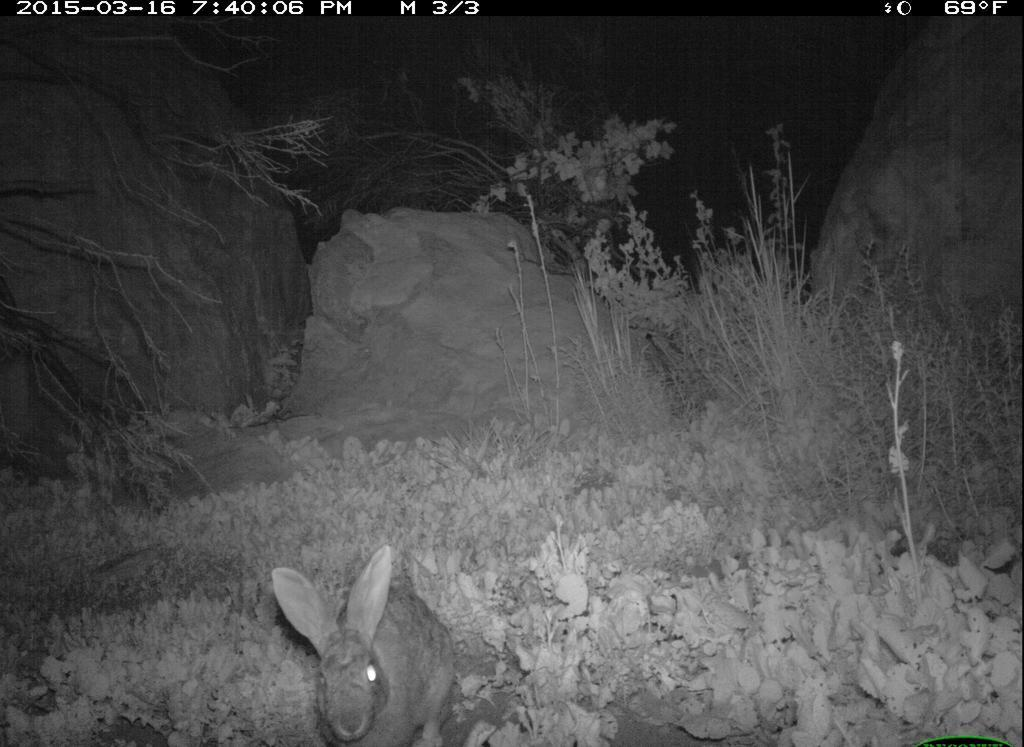rabbit: (268, 534, 470, 747)
